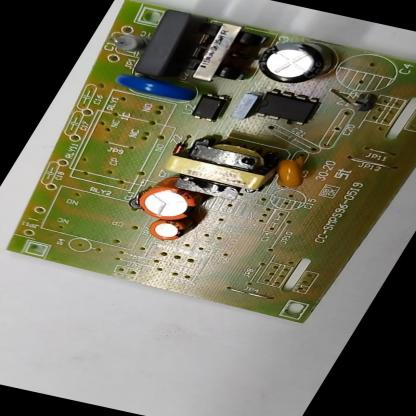Cap1: (132, 184, 202, 224)
Cap2: (144, 218, 188, 242)
Cap3: (249, 37, 333, 88)
MOSFET: (252, 88, 323, 127)
Mov: (112, 72, 198, 103)
Resistor: (106, 32, 147, 53)
Transformer: (157, 130, 279, 199), (177, 20, 271, 86)
